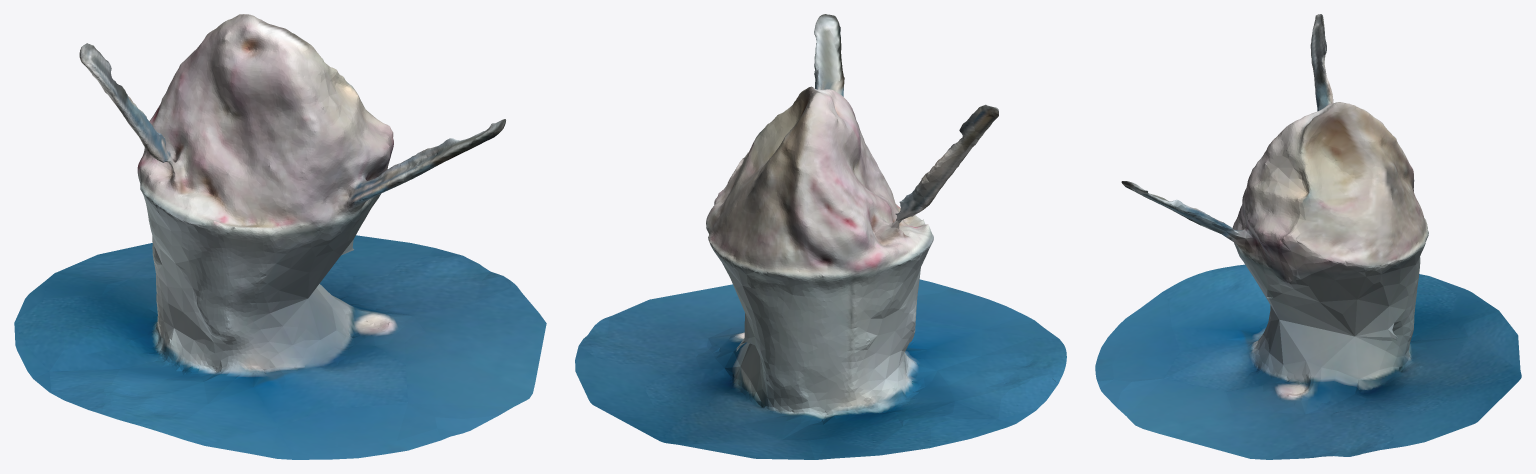
The model's file is aisu.glb.
3 renders of one model, left to right at view 1: azimuth 30°, elevation 25°; view 2: azimuth 150°, elevation 25°; view 3: azimuth 270°, elevation 25°, orthographic. The views are drawn at different scales.
Parts seen in each view (by area): view 1: mesh; view 2: mesh; view 3: mesh.
Part boxes in pixels (<box>): mesh: <box>14,14,546,459</box>; mesh: <box>575,14,1066,459</box>; mesh: <box>1095,14,1521,459</box>.
Bounding box in the file's own units: 0.1614 × 0.1149 × 0.1573.
Materials: 1 (1 with a texture image).
